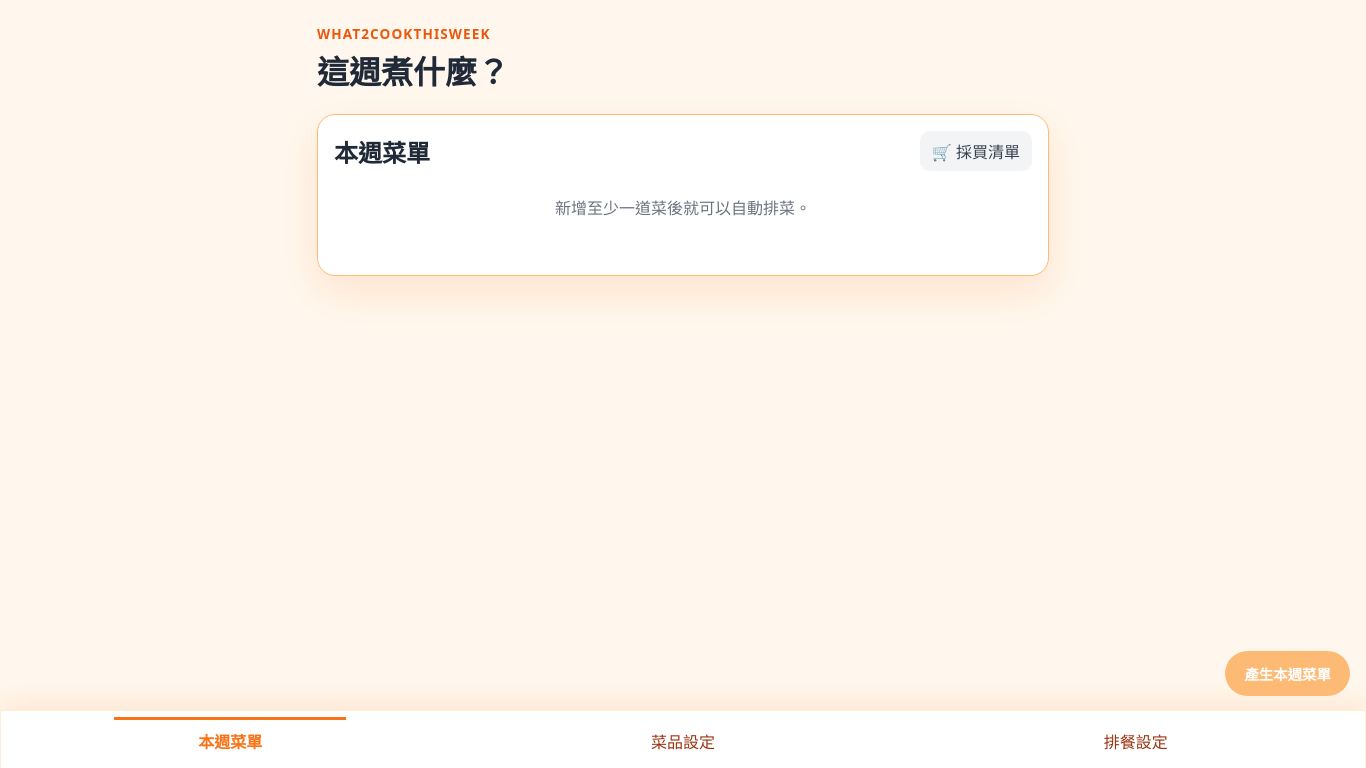
App › edits a dish in a modal
The width and height of the screenshot is (1366, 768).
Click the button "菜品設定" at (683, 740), box [459,717,907,762]
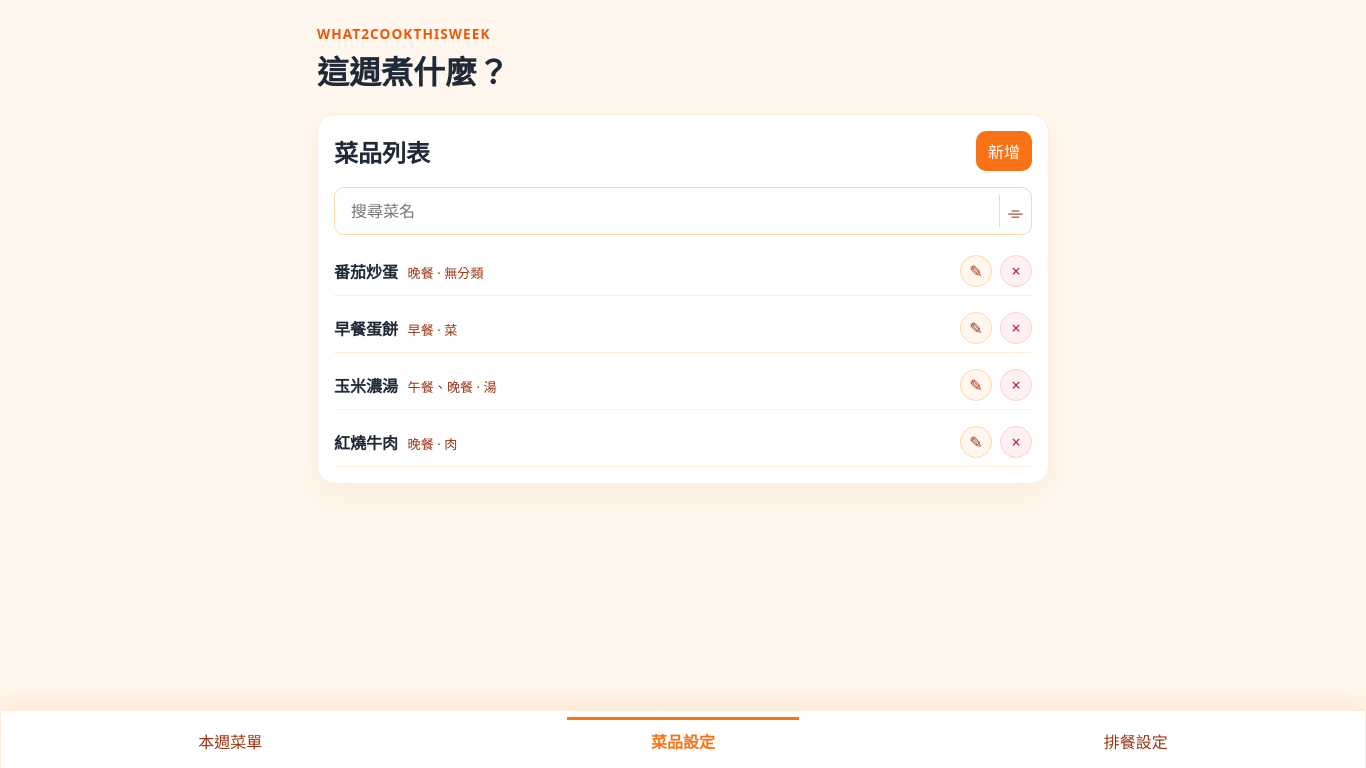
Click the button named "編輯 番茄炒蛋" at (976, 271), box [960,255,992,287]
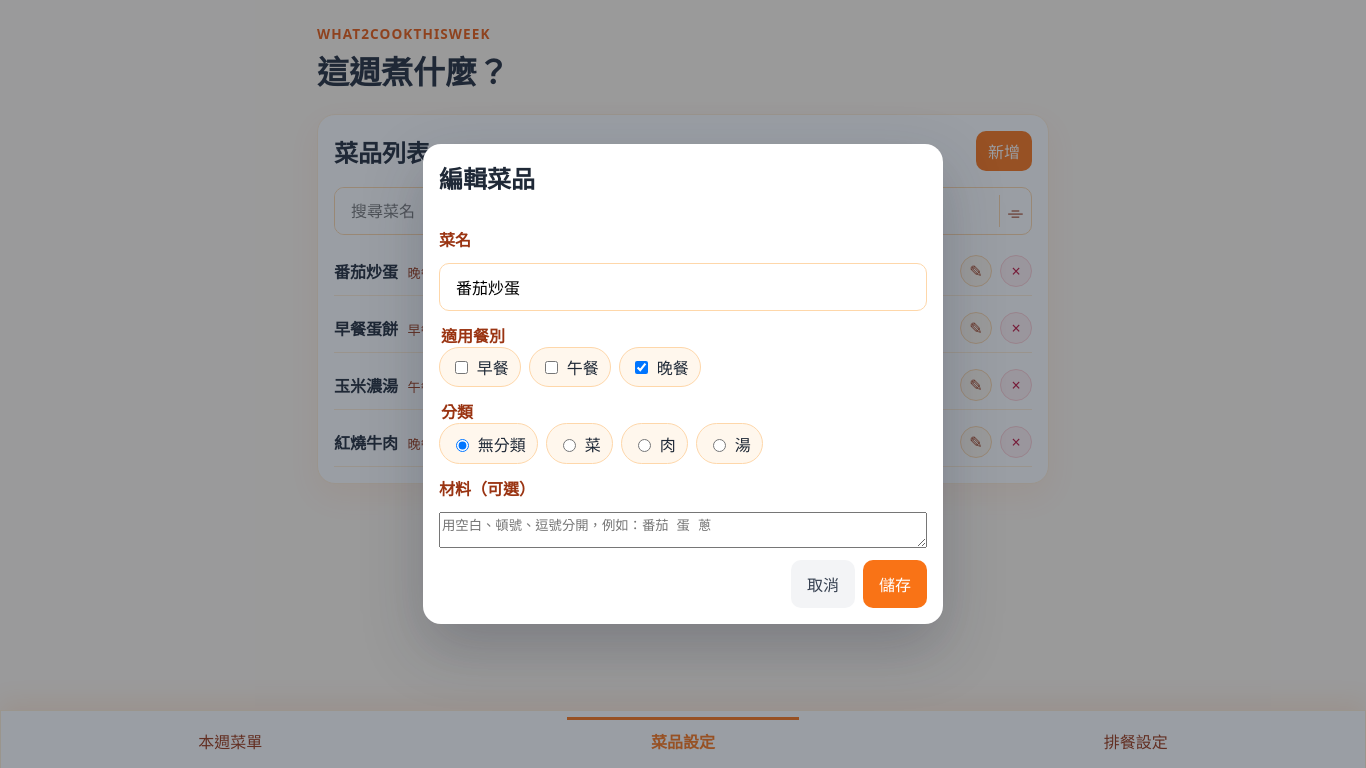
Result: the button "儲存" is shown at [863,560,927,608]
Replace the text in the field showing "番茄炒蛋" with "番茄牛肉湯" at (683, 287), box [439,263,927,311]
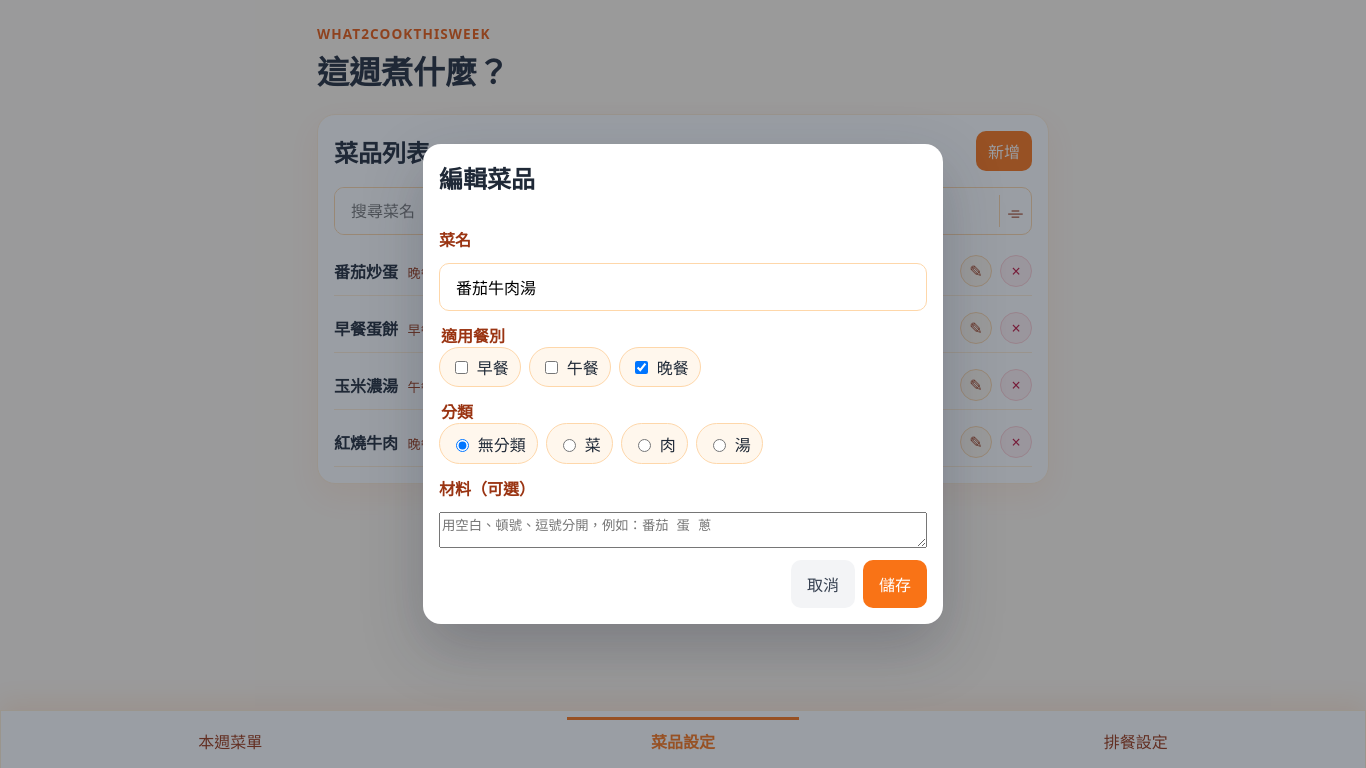
Click the radio button labelled "肉" at (645, 445), box [638,439,651,452]
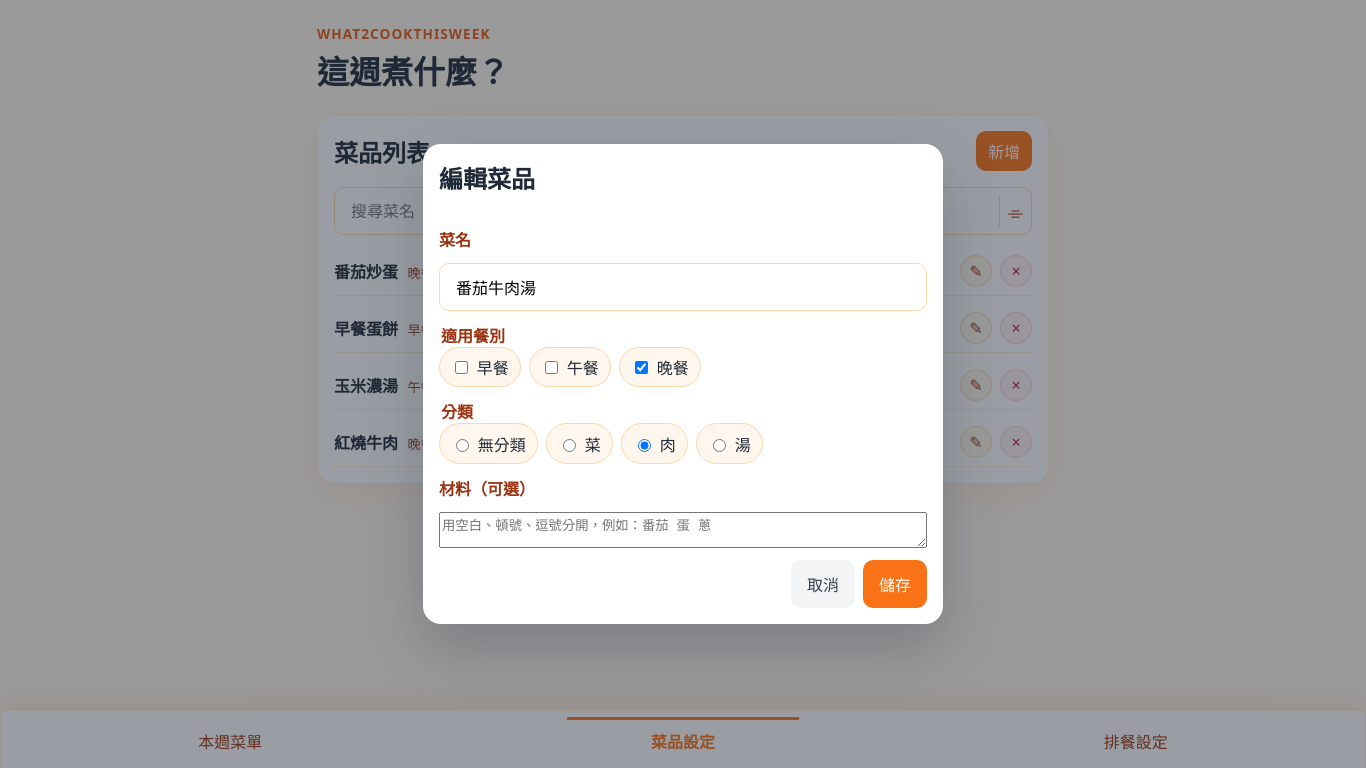
Click the checkbox labelled "午餐" at (552, 367), box [545,361,558,374]
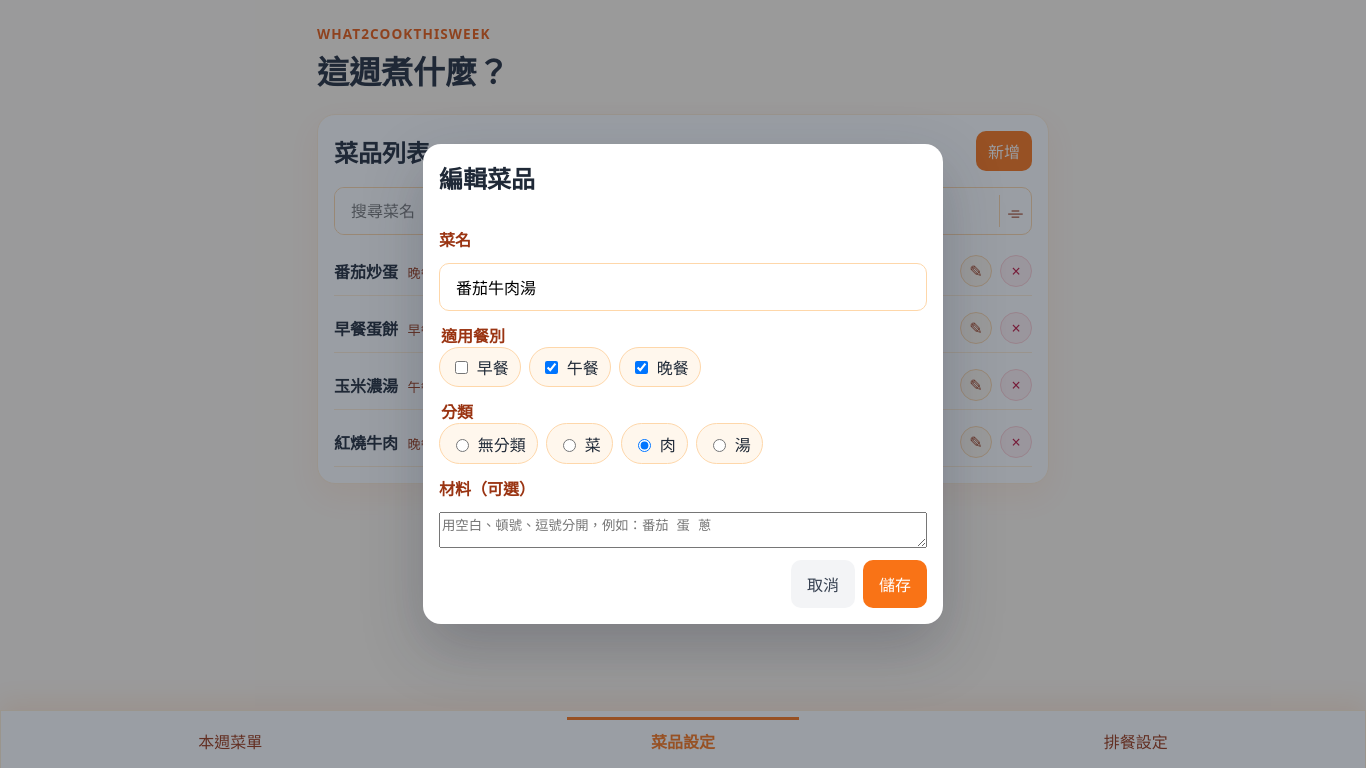
Click the button "儲存" at (895, 584), box [863,560,927,608]
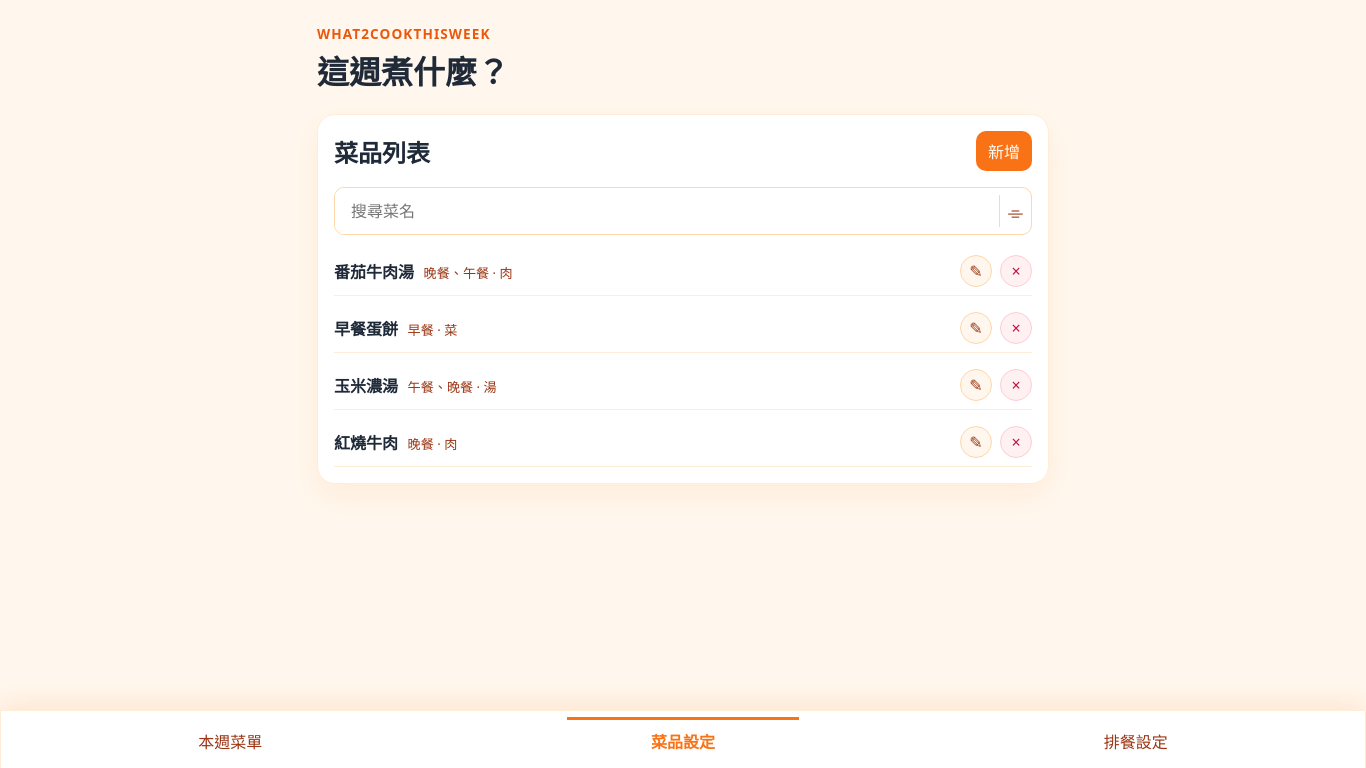
Result: the heading "編輯菜品" is gone
